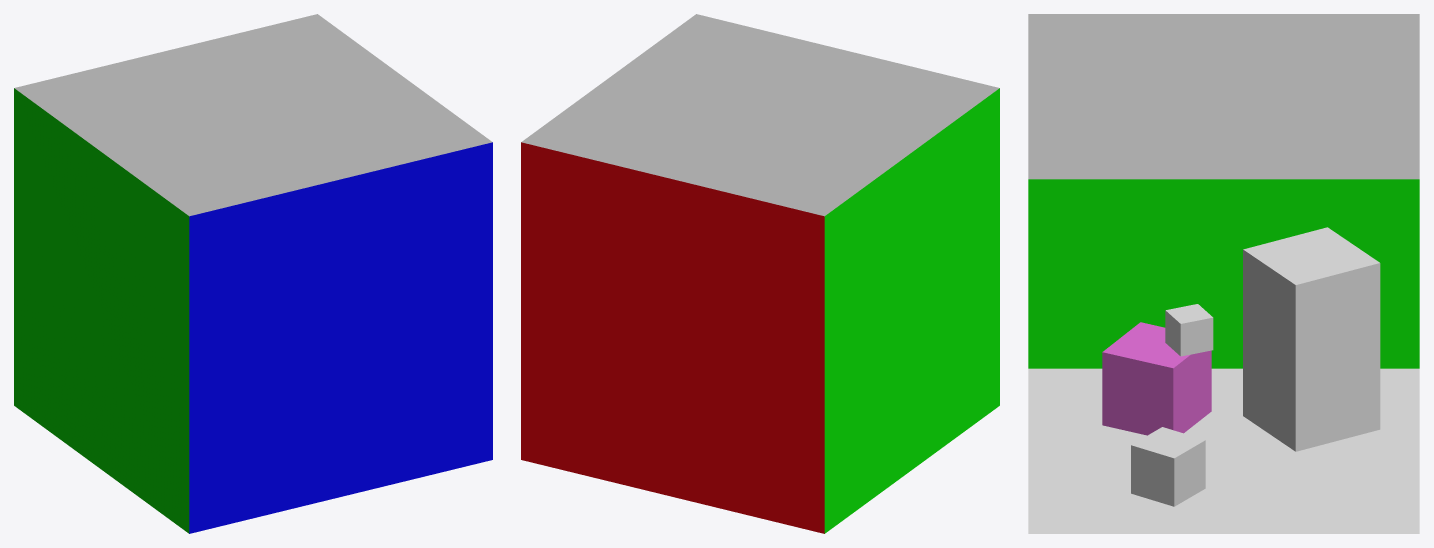
The model's file is cornell-box.fbx.
The picture shows the model from 3 angles, left to right: view 1: azimuth 30°, elevation 25°; view 2: azimuth 150°, elevation 25°; view 3: azimuth 270°, elevation 25°; orthographic projection. The views are drawn at different scales.
Parts seen in each view (by area): view 1: Plane.001, Plane.002, Plane.004; view 2: Plane.003, Plane.002, Plane.004; view 3: Plane.004, Plane.002, Plane, Cube.001, Cube, Cube.002, Cube.003.
Part boxes in pixels (<box>): Plane.001: <box>189,142,492,533</box>; Plane.002: <box>14,88,189,533</box>; Plane.004: <box>14,14,492,216</box>; Plane.003: <box>521,142,824,533</box>; Plane.002: <box>824,88,999,533</box>; Plane.004: <box>521,14,999,216</box>; Plane.004: <box>1028,14,1419,179</box>; Plane.002: <box>1028,179,1419,368</box>; Plane: <box>1028,368,1419,533</box>; Cube.001: <box>1243,227,1380,451</box>; Cube: <box>1102,322,1211,435</box>; Cube.002: <box>1131,427,1205,506</box>; Cube.003: <box>1165,304,1213,356</box>.
Bounding box in the file's own units: 4000 × 4000 × 4000.
